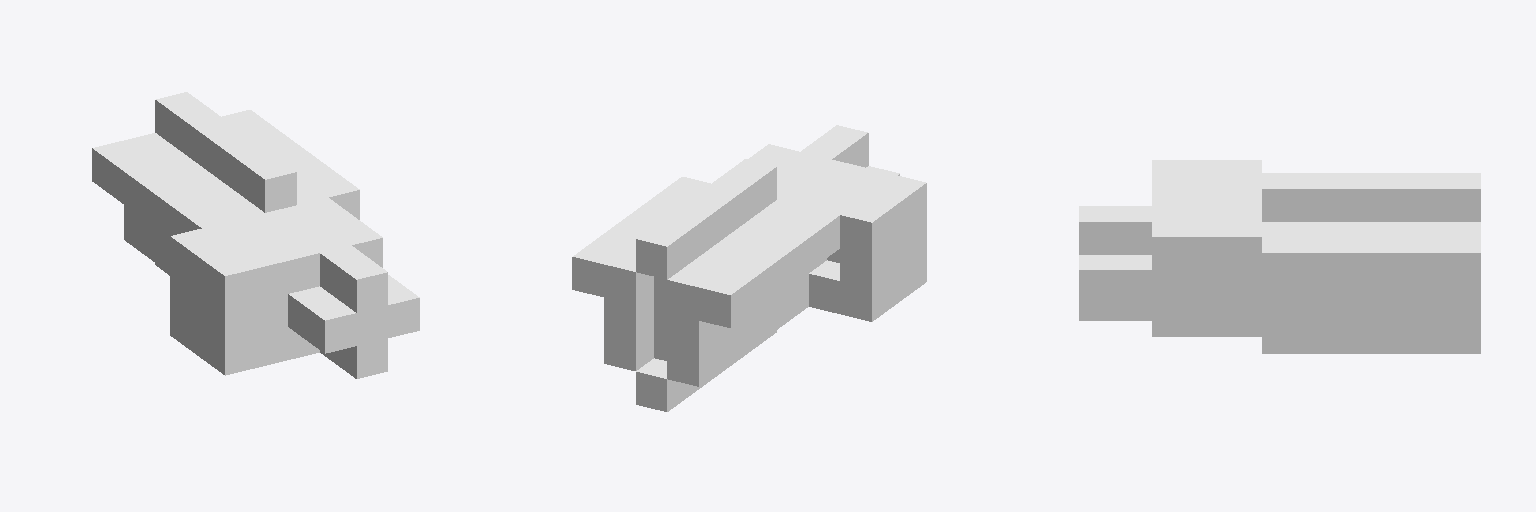
Rendered from AutoGun1.obj.
The picture shows the model from 3 angles: view 1: azimuth 30°, elevation 25°; view 2: azimuth 150°, elevation 25°; view 3: azimuth 270°, elevation 25°; orthographic projection.
Parts seen in each view (by area): view 1: object 1; view 2: object 1; view 3: object 1.
Part boxes in pixels (x1,y1,x2,y2): object 1: (92,92,419,378); object 1: (572,125,926,411); object 1: (1079,160,1480,353).
Size of the model in its own units: 0.6 by 0.5 by 1.1.